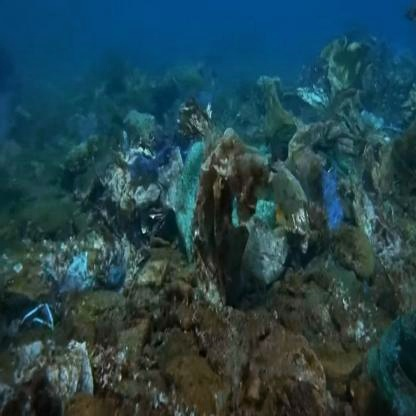plastic: (141, 127, 320, 311)
